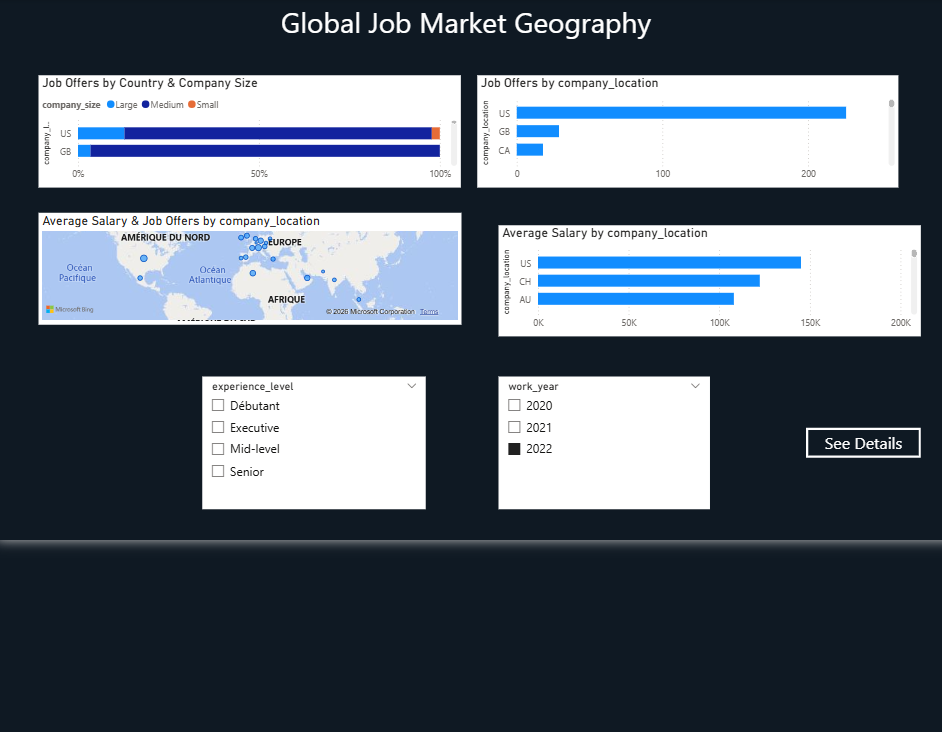

Layout of this report page (visuals, bound fields, positions):
{"tool":"powerbi","page":{"name":"Geography","canvas":[1280,720],"ordinal":2},"visuals":[{"type":"textbox","box":[374.5,0,562.6,79.9],"z":0},{"type":"hundredPercentStackedBarChart","title":"Job Offers by Country & Company Size","fields":{"Category":["Dim_Pays.company_location"],"Y":["_Mesures.Nb Offres"],"Series":["Fact_Salaires.company_size"]},"box":[56.6,101.5,562.6,149.8],"z":1000},{"type":"map","title":"Average Salary & Job Offers by company_location","fields":{"Category":["Dim_Pays.company_location"],"Size":["_Mesures.Salaire Moyen"]},"box":[56.6,284.6,562.6,148.1],"z":2000},{"type":"clusteredBarChart","title":"Average Salary by company_location","fields":{"Category":["Dim_Pays.company_location"],"Y":["_Mesures.Salaire Moyen"]},"box":[669.1,301.3,562.6,148.1],"z":3000},{"type":"clusteredBarChart","title":"Job Offers by company_location","fields":{"Category":["Dim_Pays.company_location"],"Y":["_Mesures.Nb Offres"]},"box":[640.8,101.5,560.9,149.8],"z":4000},{"type":"slicer","fields":{"Values":["Dim_Temps.work_year"]},"box":[669.1,502.7,281.3,176.4],"z":5000},{"type":"slicer","fields":{"Values":["Dim_Experience.experience_level"]},"box":[274.6,502.7,297.9,176.4],"z":6000},{"type":"actionButton","box":[1078.6,570.9,153.1,39.9],"z":7000}]}

Visuals, with their boxes in screenshot pixels (x1, y1, x2, y2):
textbox: x1=274 y1=0 x2=698 y2=55
"Job Offers by Country & Company Size" hundredPercentStackedBarChart: x1=35 y1=71 x2=459 y2=184
"Average Salary & Job Offers by company_location" map: x1=35 y1=209 x2=459 y2=321
"Average Salary by company_location" clusteredBarChart: x1=496 y1=222 x2=919 y2=333
"Job Offers by company_location" clusteredBarChart: x1=475 y1=71 x2=897 y2=184
slicer - Dim_Temps.work_year: x1=496 y1=373 x2=708 y2=506
slicer - Dim_Experience.experience_level: x1=199 y1=373 x2=423 y2=506
actionButton: x1=804 y1=425 x2=919 y2=455
